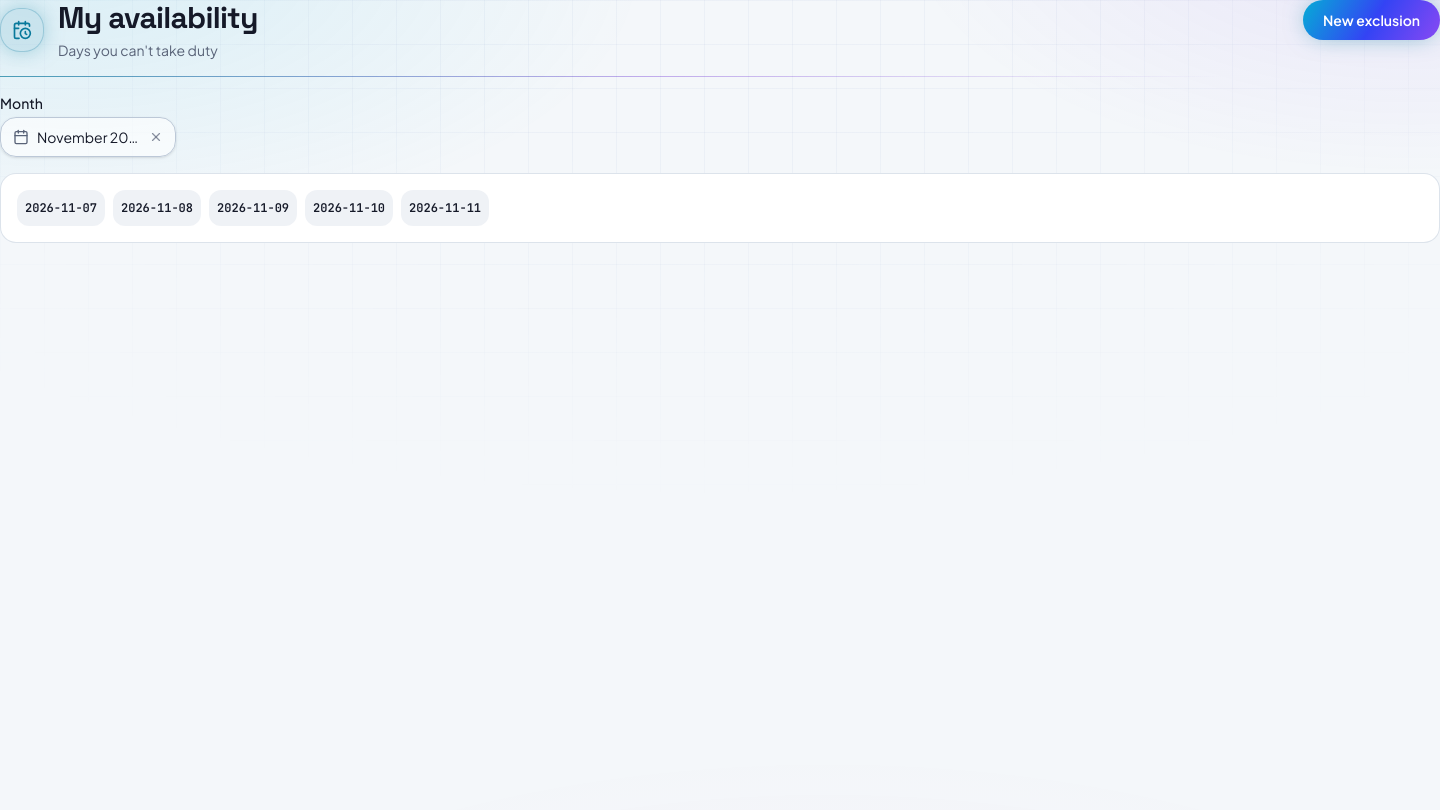
MyAvailabilityPage › keeps the dialog open with an inline error when update fails
Click the button "2026-11-07": point(61, 208) [17, 190, 105, 226]
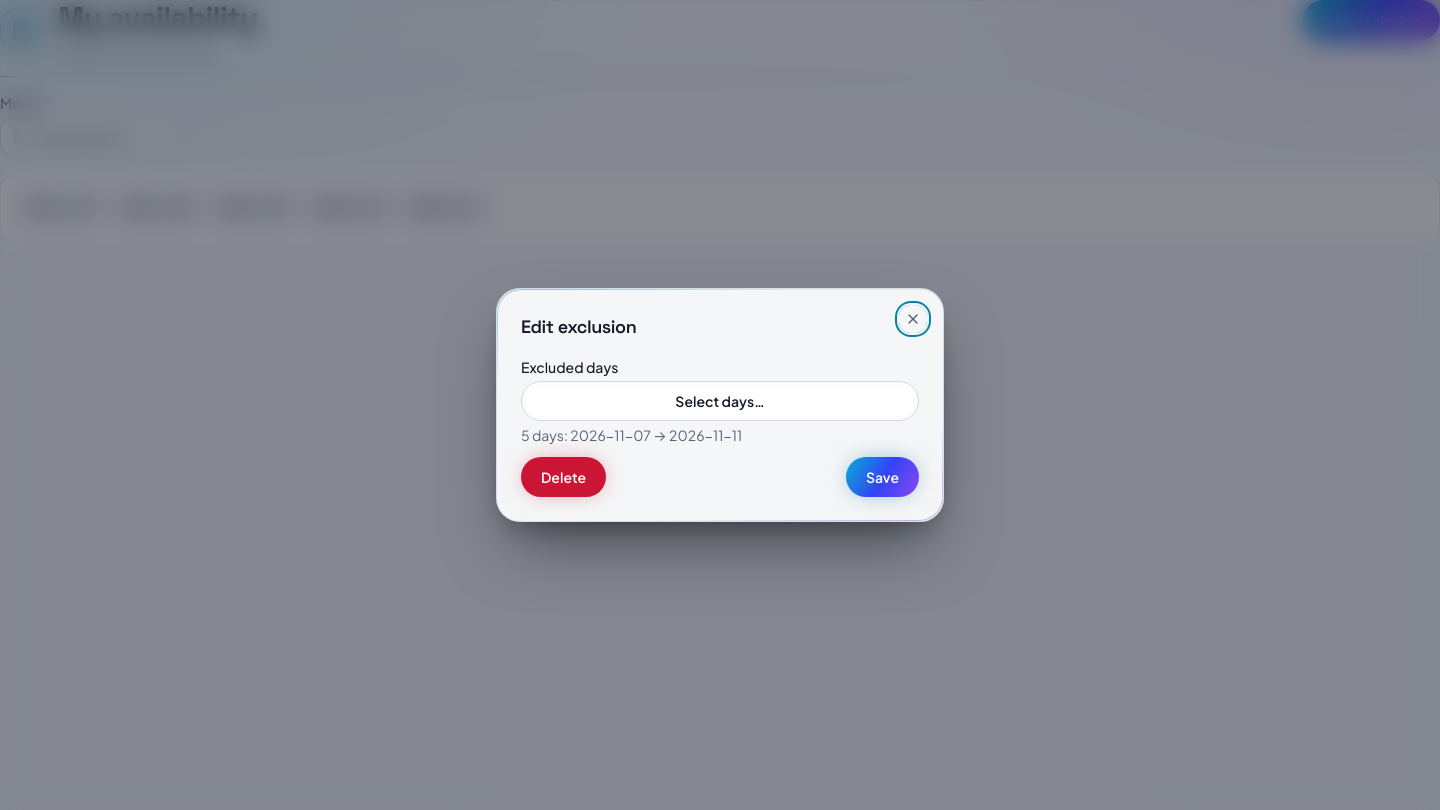
Click the button "Save": point(882, 477) [846, 457, 919, 497]
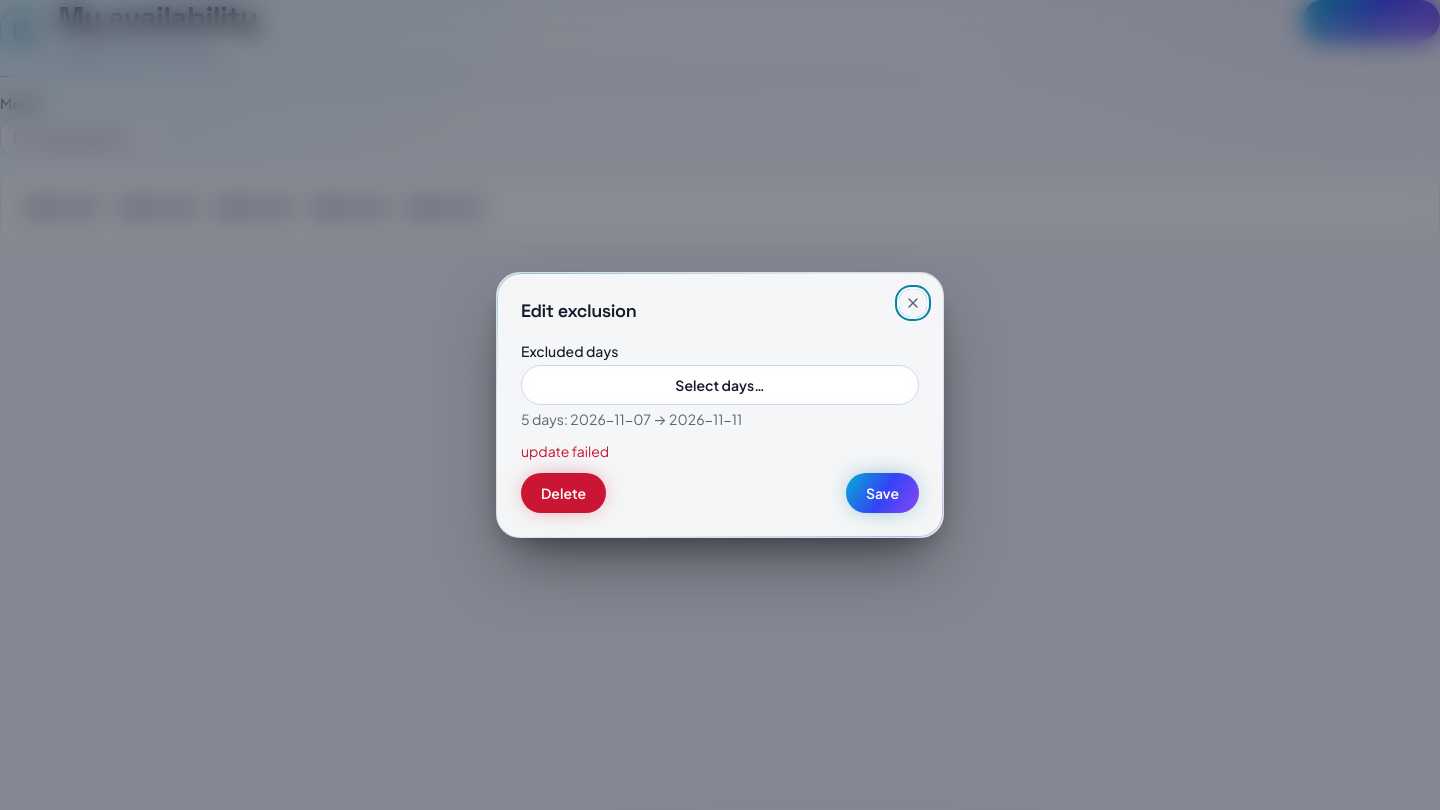
Check: the button "Save" is shown, box [846, 473, 919, 513]
Check: the message "update failed" is shown, box [521, 442, 609, 460]
